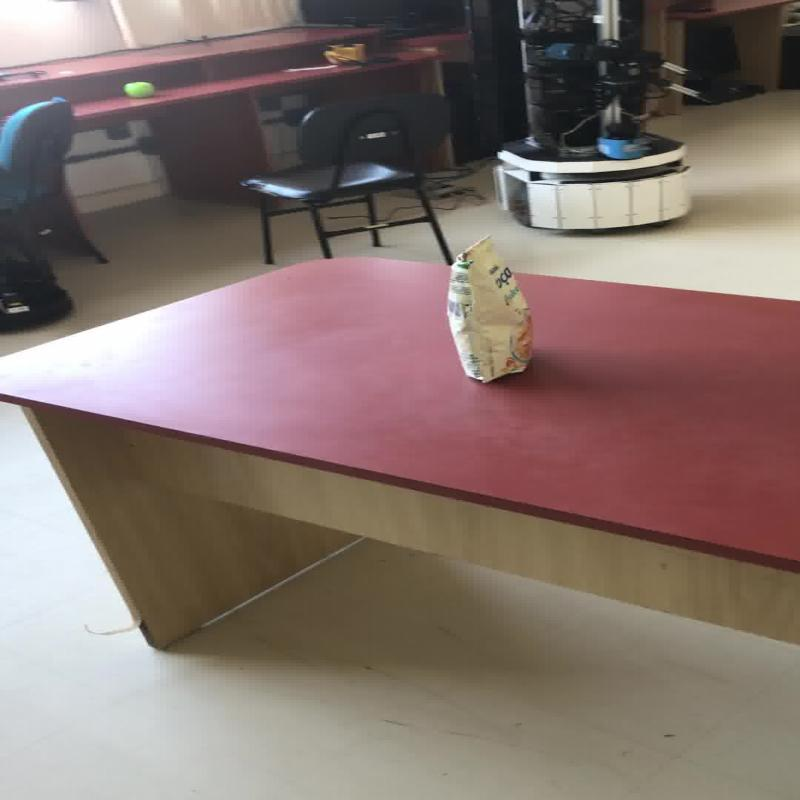corn flakes: (443, 234, 533, 382)
